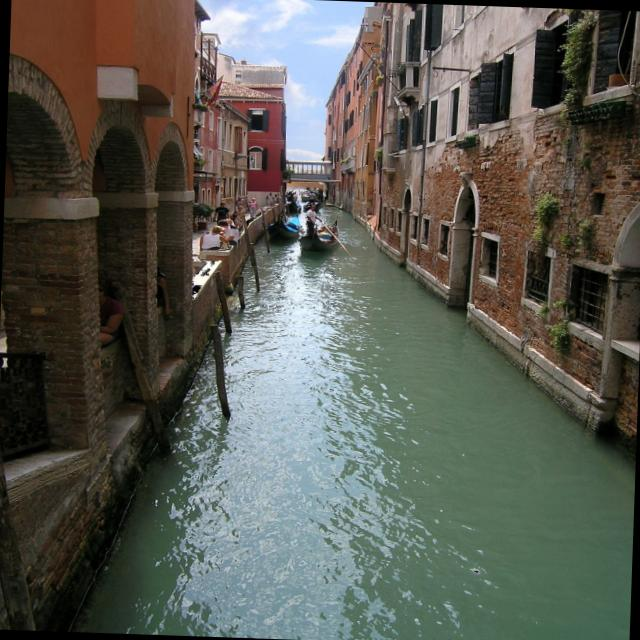boat: (296, 184, 350, 268)
